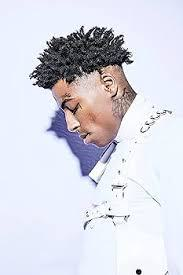quandale-dingle: (50, 50, 138, 150)
